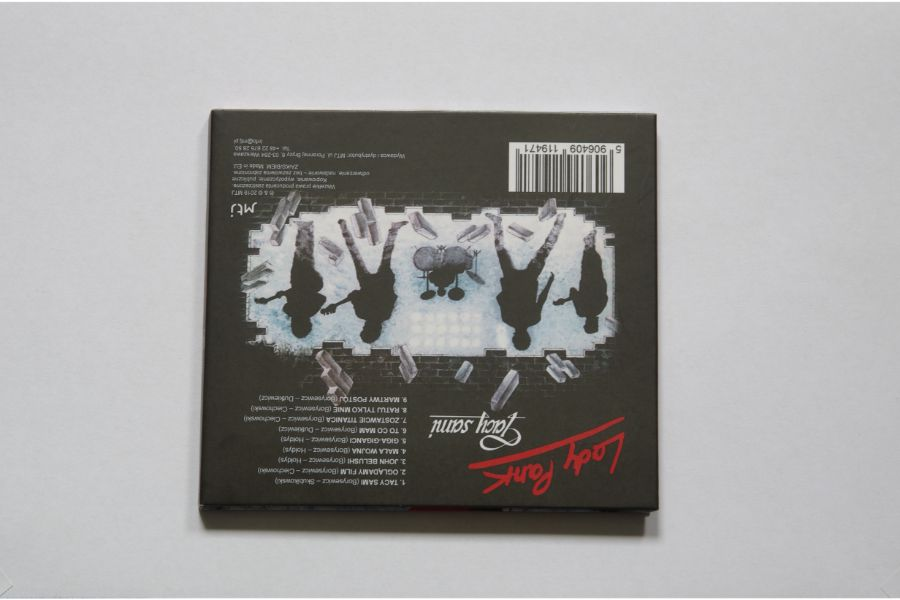album: (199, 109, 660, 510)
